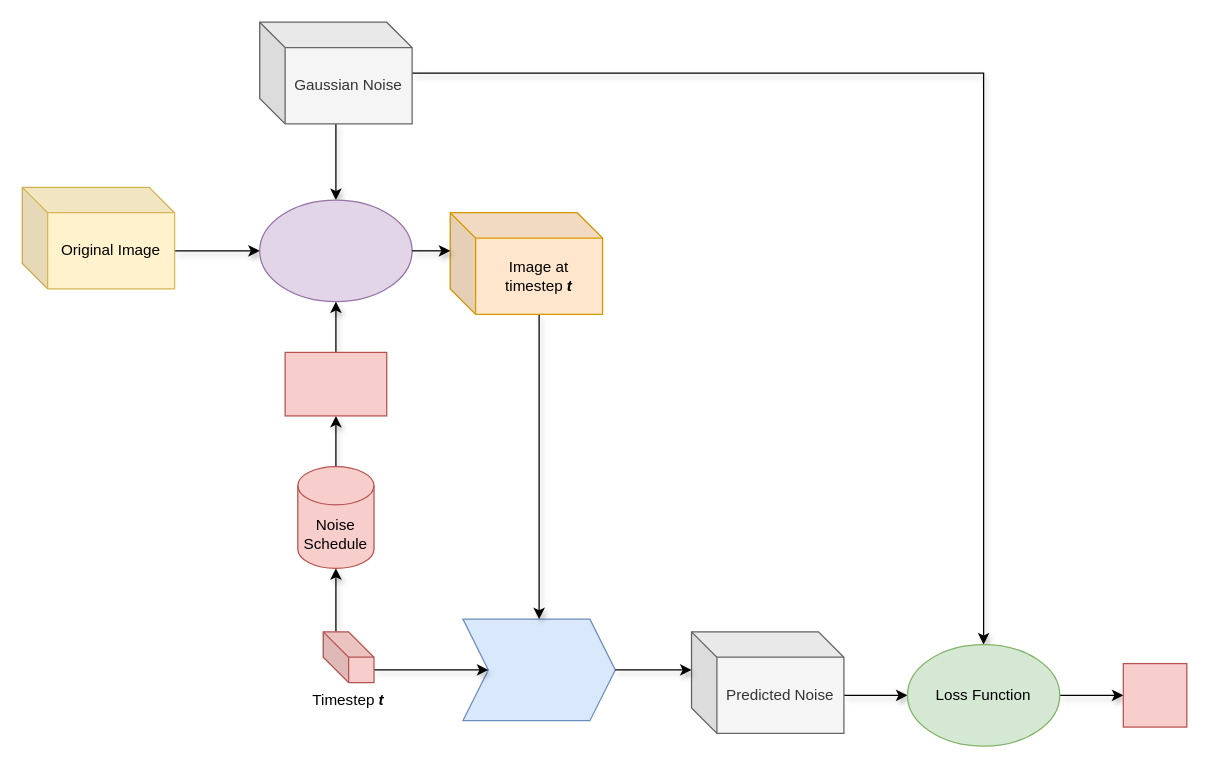
This 1209x768 diagram has some shape labels left out. The shapes that lost their labels are listed below. From the top down, each one's centre as x and y in pixels, then its label:
point 335,250: Noising Function
point 335,383: Noise Parameters
point 538,669: UNet
point 1154,694: Loss
